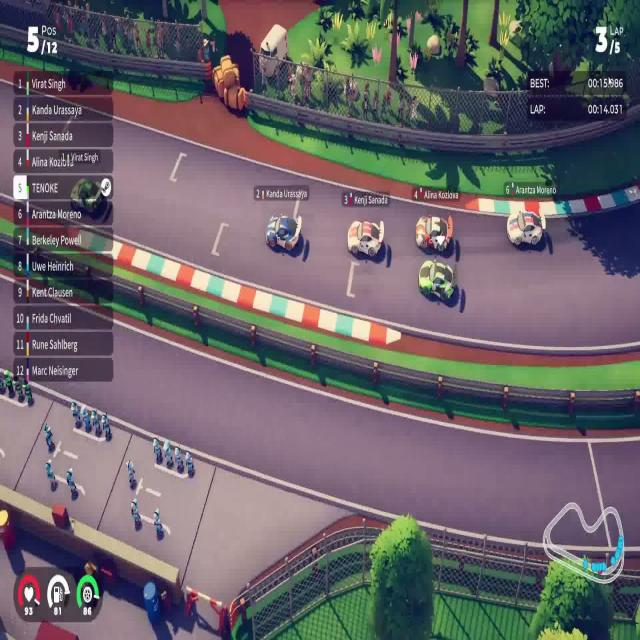car: (417, 258, 456, 304), (346, 217, 385, 259), (414, 213, 453, 254), (506, 208, 544, 248), (265, 212, 302, 253)
